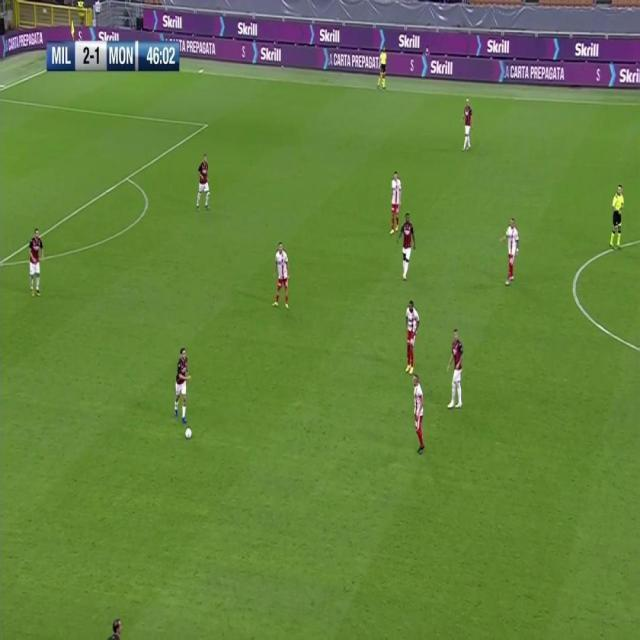ball: (184, 425, 192, 439)
player: (446, 326, 466, 410), (499, 215, 521, 285), (172, 345, 191, 422), (27, 225, 46, 301), (271, 240, 291, 310), (397, 211, 416, 282), (403, 298, 420, 373), (411, 372, 426, 455), (195, 150, 212, 215), (387, 169, 403, 237), (460, 97, 474, 154)
referee: (609, 182, 626, 253), (376, 43, 388, 91)
